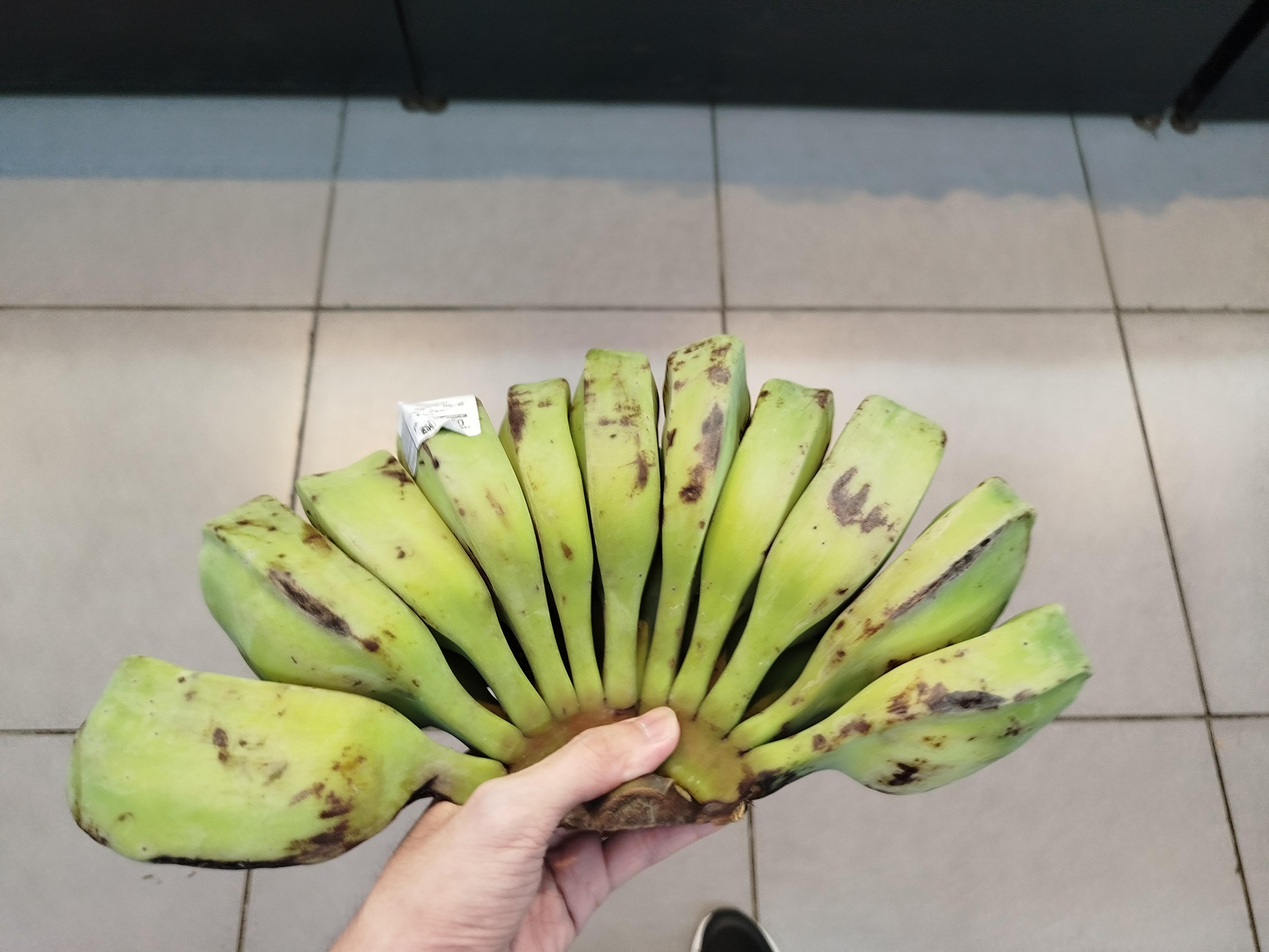underripe: (70, 336, 1089, 866)
